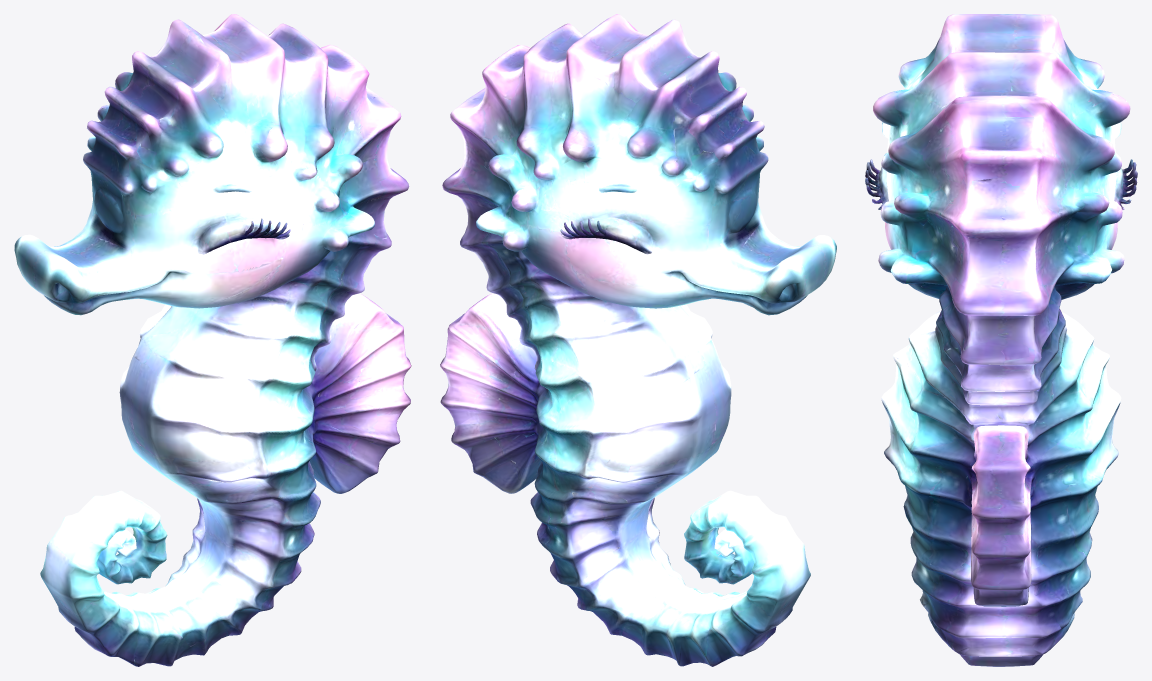
3 views of the same model, side by side, from view 1: azimuth 30°, elevation 25°; view 2: azimuth 150°, elevation 25°; view 3: azimuth 270°, elevation 25° (orthographic). The views are drawn at different scales.
Size of the model in its own units: 1.22 by 1.9 by 0.7172.
1 material, 1 textured.
